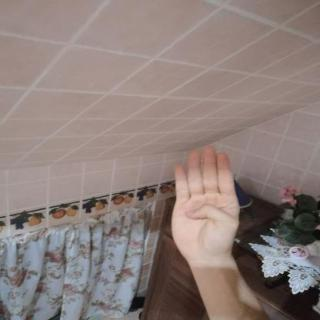KAAF: (158, 138, 251, 269)
